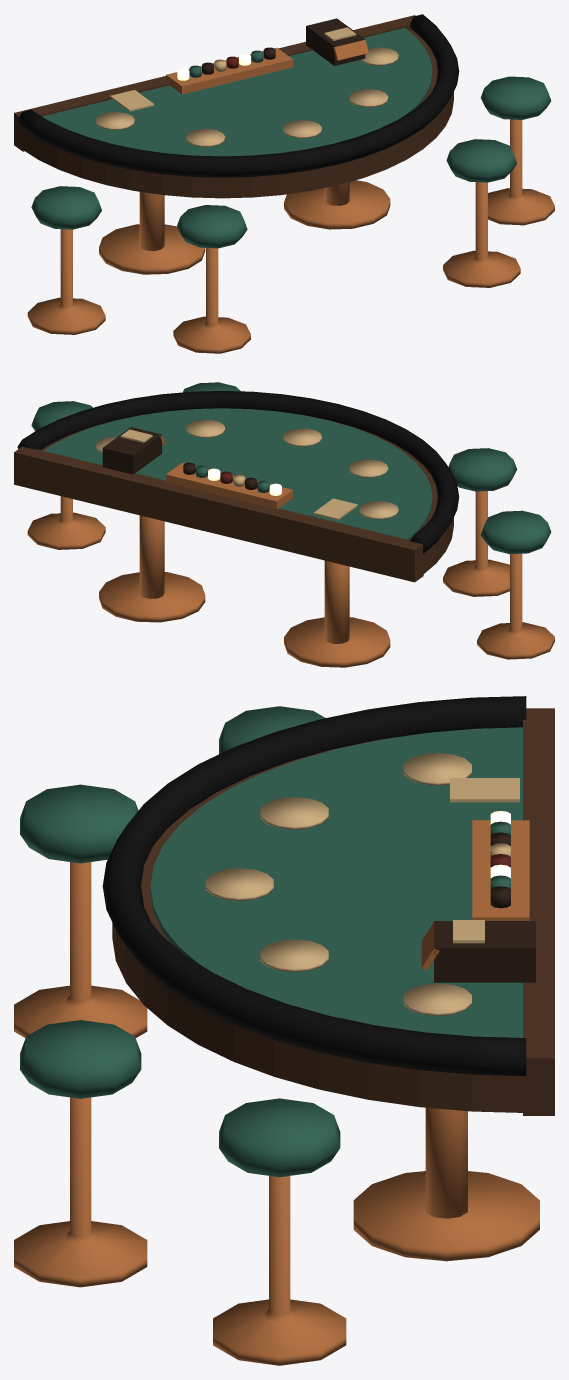
The model's file is blackjack_table.glb.
3 views of the same model, one above another, from view 1: azimuth 30°, elevation 25°; view 2: azimuth 150°, elevation 25°; view 3: azimuth 270°, elevation 25° (orthographic). The views are drawn at different scales.
Visible parts, largest first — view 1: blackjack_table felt, blackjack_table metal, blackjack_table wood, blackjack_table rubber, blackjack_table stone, blackjack_table sign; view 2: blackjack_table felt, blackjack_table metal, blackjack_table wood, blackjack_table rubber, blackjack_table stone, blackjack_table sign; view 3: blackjack_table felt, blackjack_table metal, blackjack_table rubber, blackjack_table wood, blackjack_table stone, blackjack_table sign.
Part boxes in pixels (x1,y1,x2,y2): blackjack_table felt: [31, 28, 551, 248]; blackjack_table metal: [27, 39, 554, 353]; blackjack_table wood: [14, 15, 453, 198]; blackjack_table rubber: [17, 14, 459, 177]; blackjack_table stone: [95, 27, 398, 146]; blackjack_table sign: [202, 18, 365, 74]; blackjack_table felt: [31, 382, 551, 554]; blackjack_table metal: [27, 435, 554, 667]; blackjack_table wood: [14, 412, 453, 582]; blackjack_table rubber: [17, 391, 459, 553]; blackjack_table stone: [95, 419, 398, 520]; blackjack_table sign: [102, 427, 257, 489]; blackjack_table felt: [20, 706, 522, 1177]; blackjack_table metal: [14, 820, 539, 1365]; blackjack_table rubber: [102, 696, 526, 1075]; blackjack_table wood: [112, 708, 554, 1115]; blackjack_table stone: [205, 753, 519, 1015]; blackjack_table sign: [434, 832, 535, 982].
Size of what is drawn, in the model's own units: 3.35 by 1.04 by 1.7.
